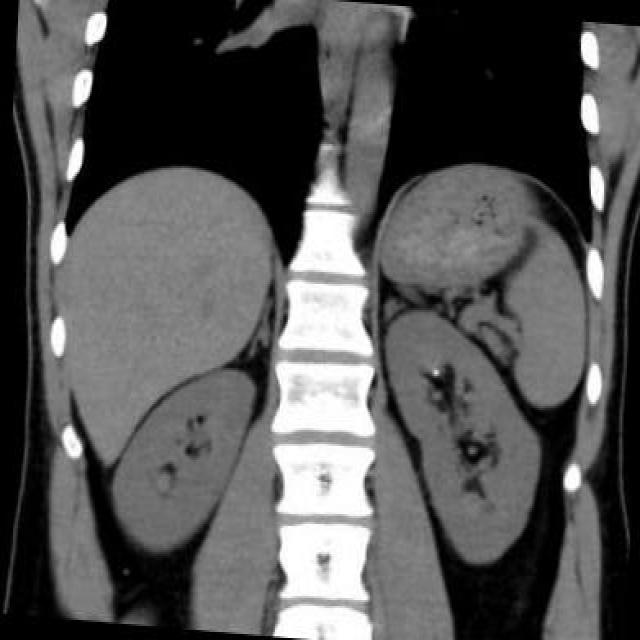Tas_Var: (428, 367, 441, 379)
